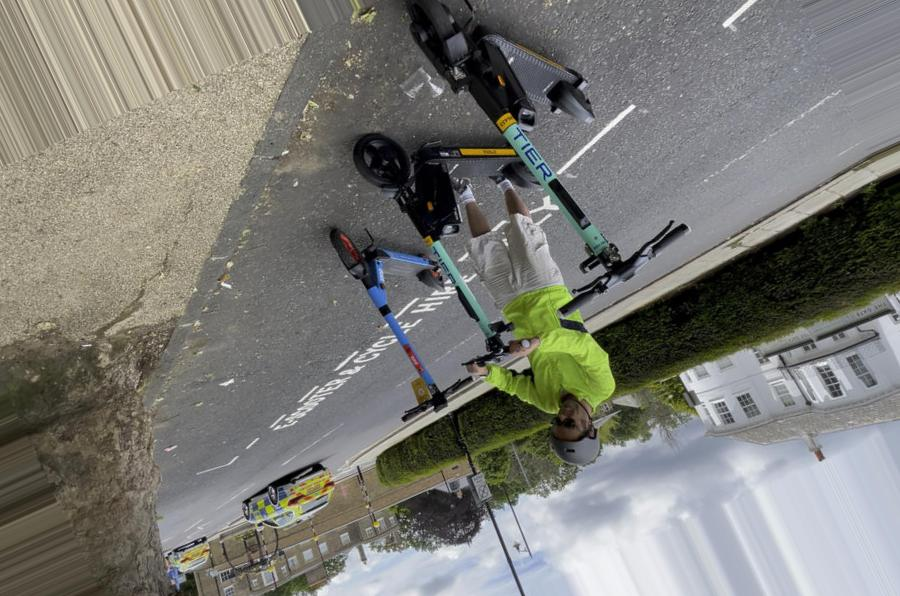scooter: (404, 1, 692, 319), (353, 133, 549, 371), (330, 226, 478, 424)
with helmet: (549, 400, 603, 467)
